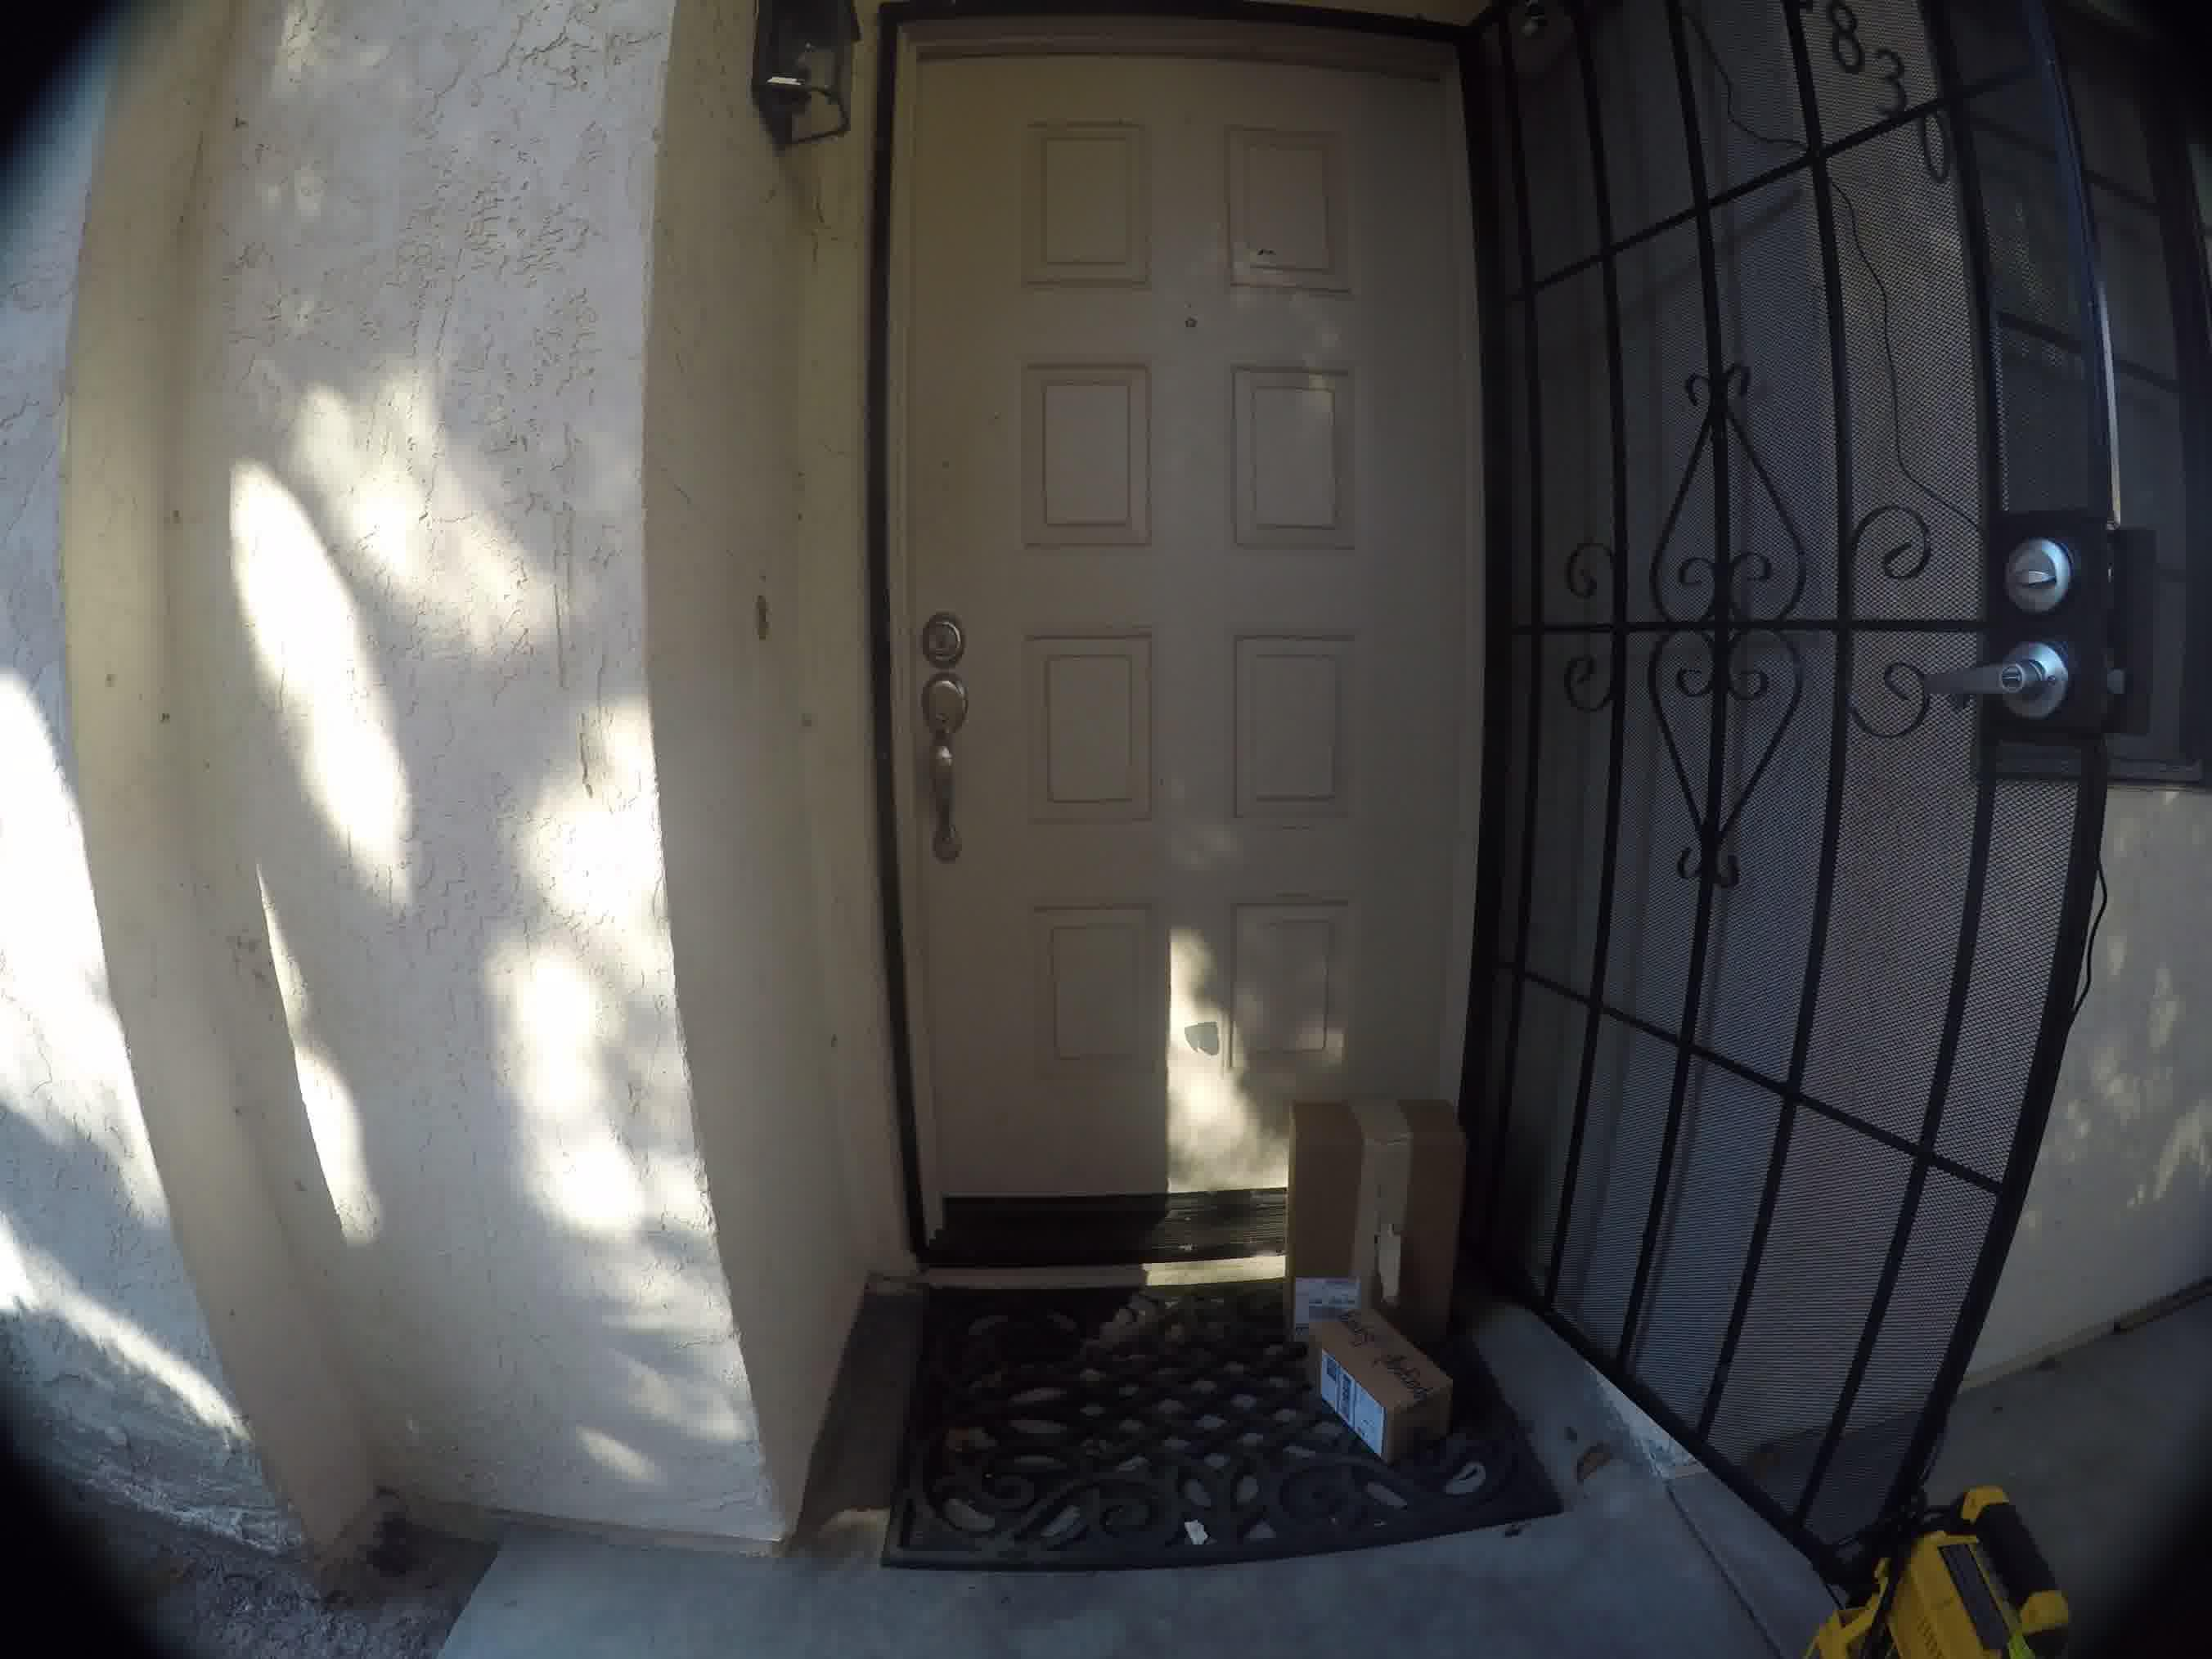box: (1282, 1091, 1496, 1279), (1282, 1314, 1486, 1471)
